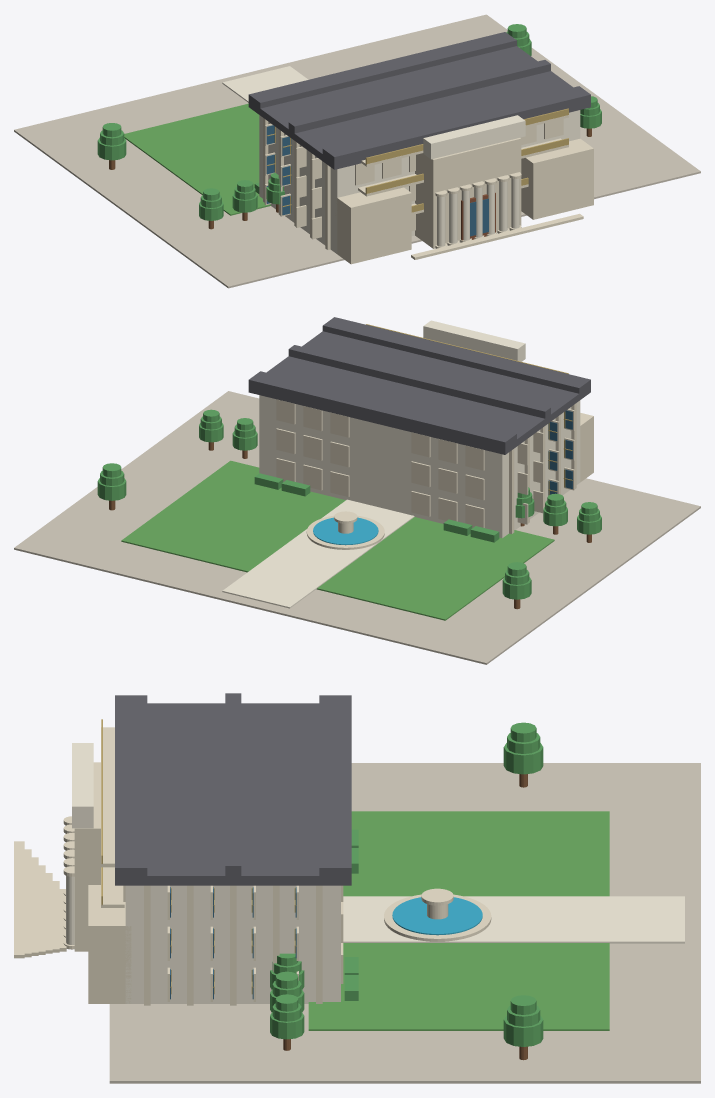
File: main_building_escape_school.glb
3 views of the same model, one above another, from view 1: azimuth 30°, elevation 25°; view 2: azimuth 150°, elevation 25°; view 3: azimuth 270°, elevation 25° (orthographic). The views are drawn at different scales.
Visible parts, largest first — view 1: Courtyard-col, Main Roof Base-col, Central Lawn-col, Grand Entrance Mass-col, Left Wing-col, Right Wing-col, Roof Back Slope, Roof Front Slope, Roof Ridge, Main Building Floor 3-col, Entrance Pediment-col, Central Walkway-col (+12 smaller); view 2: Courtyard-col, Central Lawn-col, Main Roof Base-col, Central Walkway-col, Main Building Floor 2-col, Roof Back Slope, Main Building Floor 1-col, Main Building Floor 3-col, Roof Front Slope, Roof Ridge, Entrance Pediment-col, Fountain Water (+2 smaller); view 3: Courtyard-col, Central Lawn-col, Main Roof Base-col, Central Walkway-col, Main Building Floor 2-col, Main Building Floor 3-col, Main Building Floor 1-col, Roof Back Slope, Roof Front Slope, Right Wing-col, Roof Ridge, Grand Entrance Mass-col (+18 smaller).
Part boxes in pixels (x1=…): Courtyard-col: x1=14, y1=14, x2=700, y2=288; Main Roof Base-col: x1=248, y1=46, x2=590, y2=169; Central Lawn-col: x1=124, y1=103, x2=270, y2=215; Grand Entrance Mass-col: x1=415, y1=138, x2=521, y2=248; Left Wing-col: x1=335, y1=187, x2=411, y2=264; Right Wing-col: x1=521, y1=138, x2=593, y2=219; Roof Back Slope: x1=248, y1=32, x2=516, y2=109; Roof Front Slope: x1=322, y1=86, x2=590, y2=164; Roof Ridge: x1=288, y1=60, x2=550, y2=133; Main Building Floor 3-col: x1=259, y1=110, x2=580, y2=194; Entrance Pediment-col: x1=423, y1=115, x2=525, y2=159; Central Walkway-col: x1=222, y1=66, x2=308, y2=102; Courtyard-col: x1=14, y1=391, x2=700, y2=664; Central Lawn-col: x1=121, y1=460, x2=554, y2=620; Main Roof Base-col: x1=248, y1=331, x2=590, y2=454; Central Walkway-col: x1=222, y1=499, x2=414, y2=608; Main Building Floor 2-col: x1=259, y1=421, x2=580, y2=509; Roof Back Slope: x1=248, y1=371, x2=516, y2=450; Main Building Floor 1-col: x1=259, y1=450, x2=580, y2=538; Main Building Floor 3-col: x1=259, y1=395, x2=580, y2=480; Roof Front Slope: x1=322, y1=317, x2=590, y2=393; Roof Ridge: x1=288, y1=345, x2=550, y2=418; Entrance Pediment-col: x1=423, y1=320, x2=525, y2=361; Fountain Water: x1=313, y1=517, x2=378, y2=545; Courtyard-col: x1=109, y1=763, x2=700, y2=1083; Central Lawn-col: x1=308, y1=811, x2=609, y2=1030; Main Roof Base-col: x1=115, y1=703, x2=351, y2=885; Central Walkway-col: x1=343, y1=896, x2=684, y2=943; Main Building Floor 2-col: x1=125, y1=922, x2=340, y2=962; Main Building Floor 3-col: x1=125, y1=885, x2=340, y2=921; Main Building Floor 1-col: x1=125, y1=963, x2=340, y2=1003; Roof Back Slope: x1=319, y1=695, x2=351, y2=879; Roof Front Slope: x1=115, y1=695, x2=147, y2=879; Right Wing-col: x1=88, y1=885, x2=131, y2=1003; Roof Ridge: x1=225, y1=693, x2=241, y2=875; Grand Entrance Mass-col: x1=74, y1=769, x2=100, y2=951.
Bounding box in the file's own units: 70 × 15.35 × 63.9.
